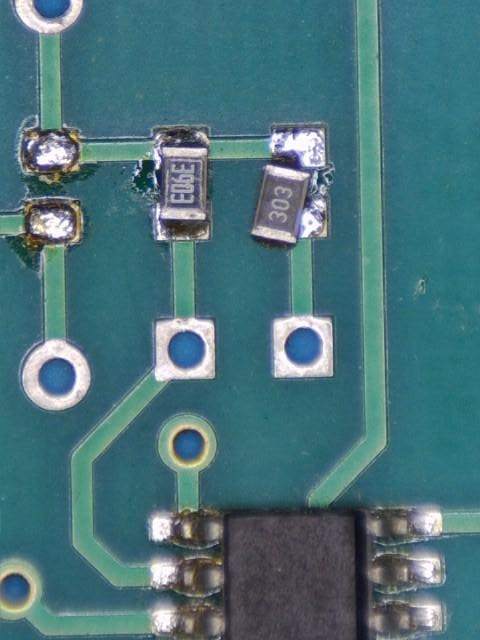pcb_defect: (249, 125, 329, 245)
